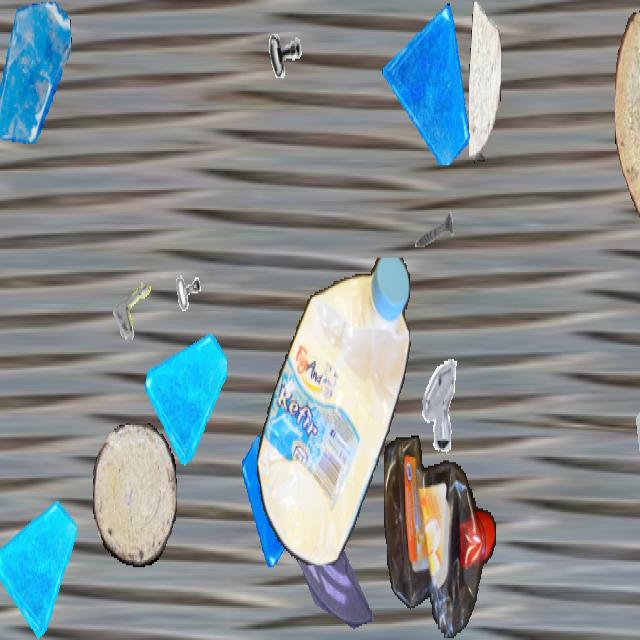glass: (382, 2, 474, 165), (289, 489, 373, 638), (145, 320, 227, 466), (0, 492, 77, 638), (0, 2, 73, 144), (242, 432, 318, 567), (632, 309, 640, 473)
metal: (109, 251, 169, 357), (408, 351, 466, 454), (163, 268, 213, 358), (413, 192, 455, 267), (265, 16, 305, 87)
plastic: (256, 257, 412, 564), (384, 436, 496, 638)
wood: (93, 423, 177, 565), (615, 2, 640, 247), (469, 2, 501, 162)
